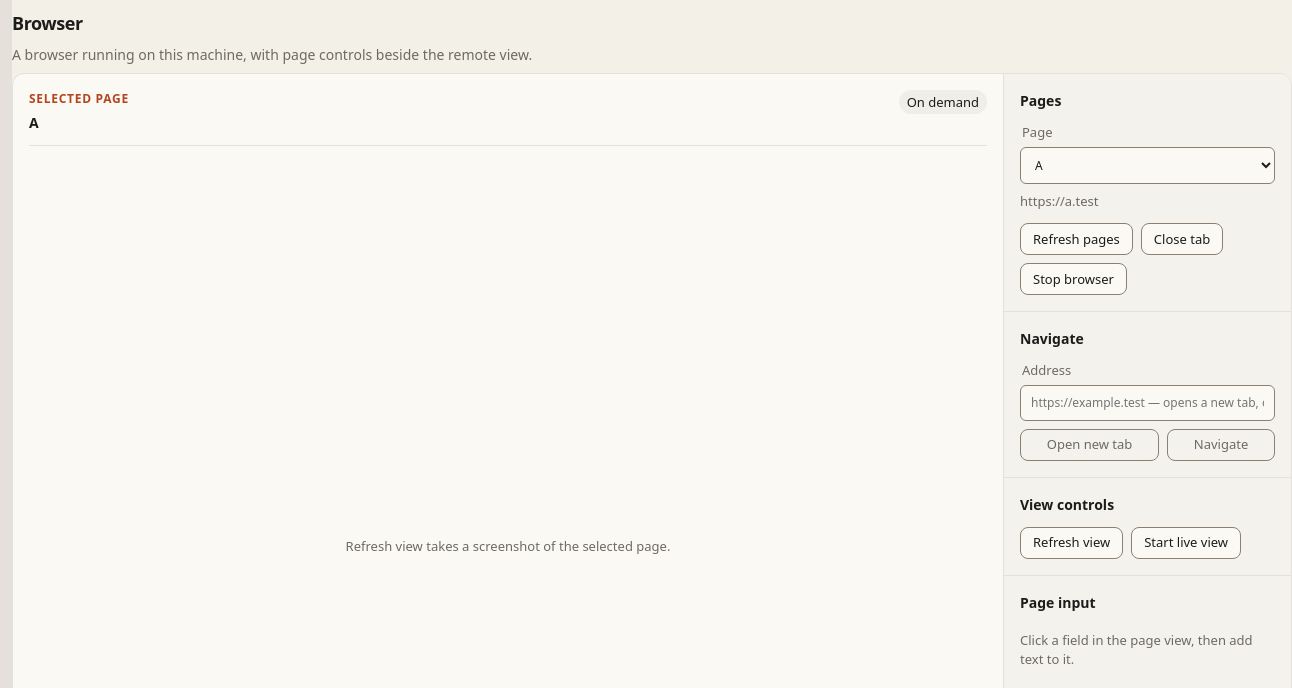
Test: BrowserPane › keeps a lost transport response's outcome unknown
Replace the text in the field labelled "Address" with "https://b.test" at (1148,402), box top-left (1020, 384), bottom-right (1275, 420)
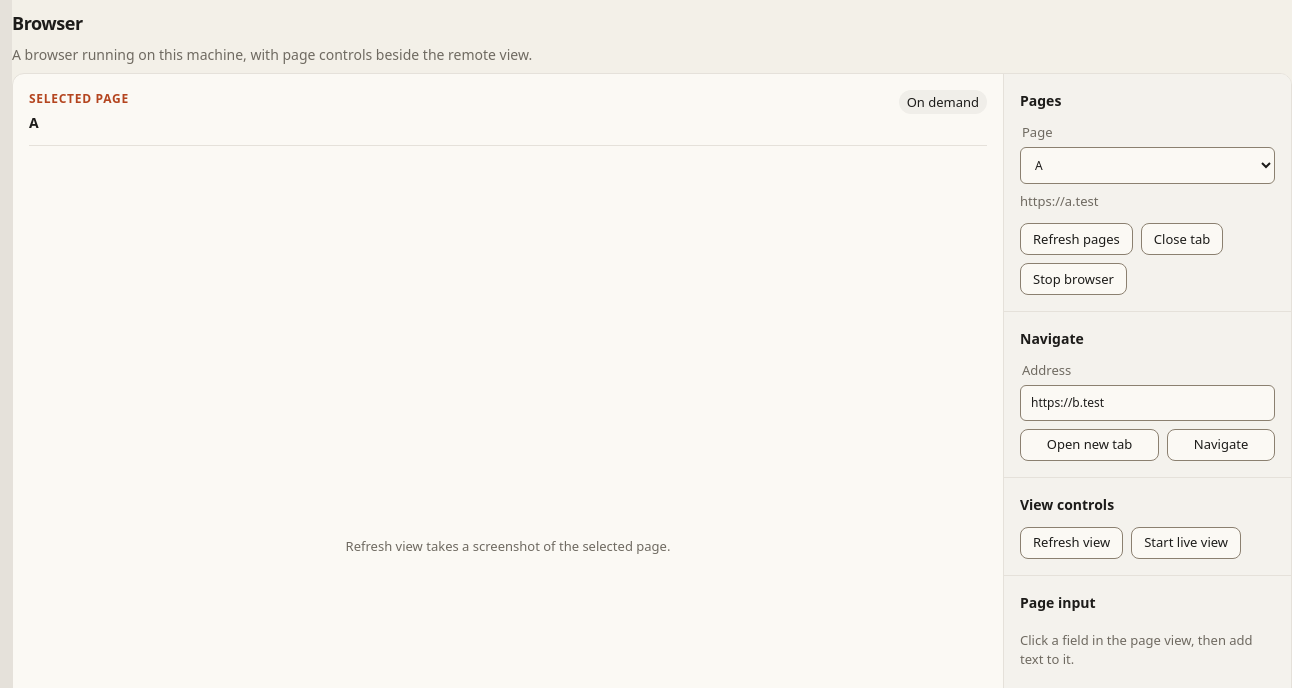
Click the button "Navigate".
click(1221, 444)  # box top-left (1167, 428), bottom-right (1275, 460)
(page scrolled)
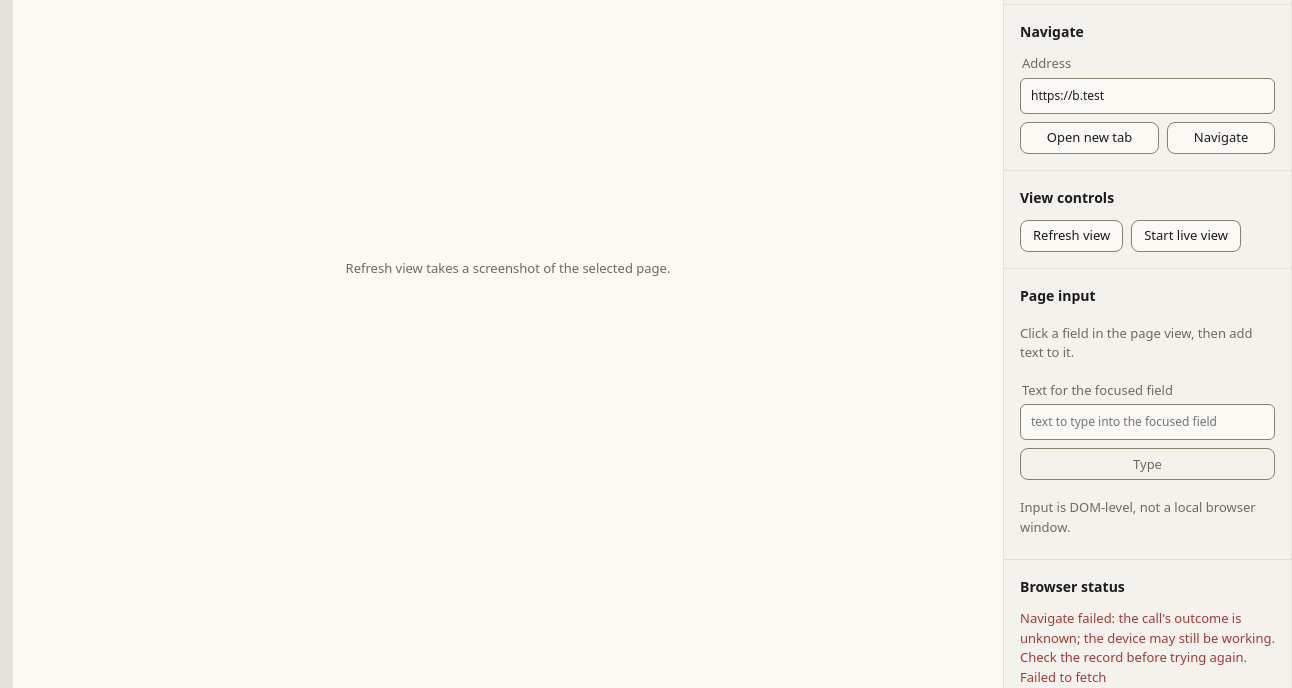
Expected: the text "Navigate failed: the call's outcome is unknown; the device may still be working" shows "Failed to fetch", top-left (1020, 609), bottom-right (1275, 686)
